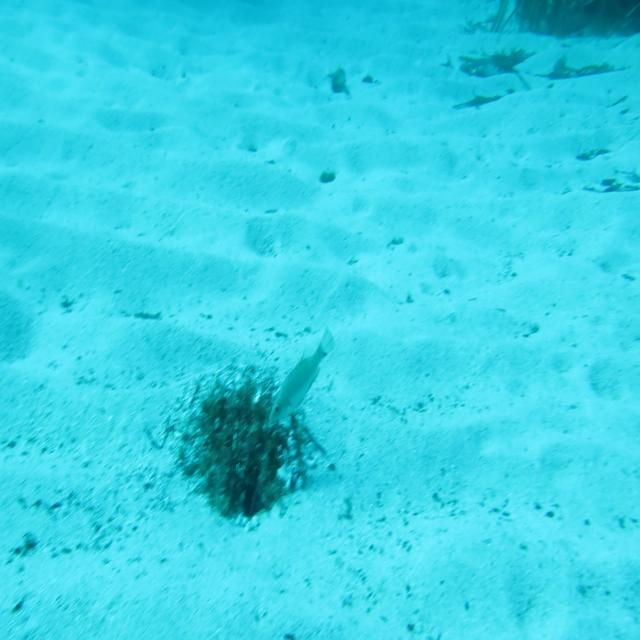LAND: (261, 315, 342, 438)
core_nest: (220, 397, 269, 438)
nest: (166, 345, 334, 540)
vegetation: (490, 0, 639, 40)
